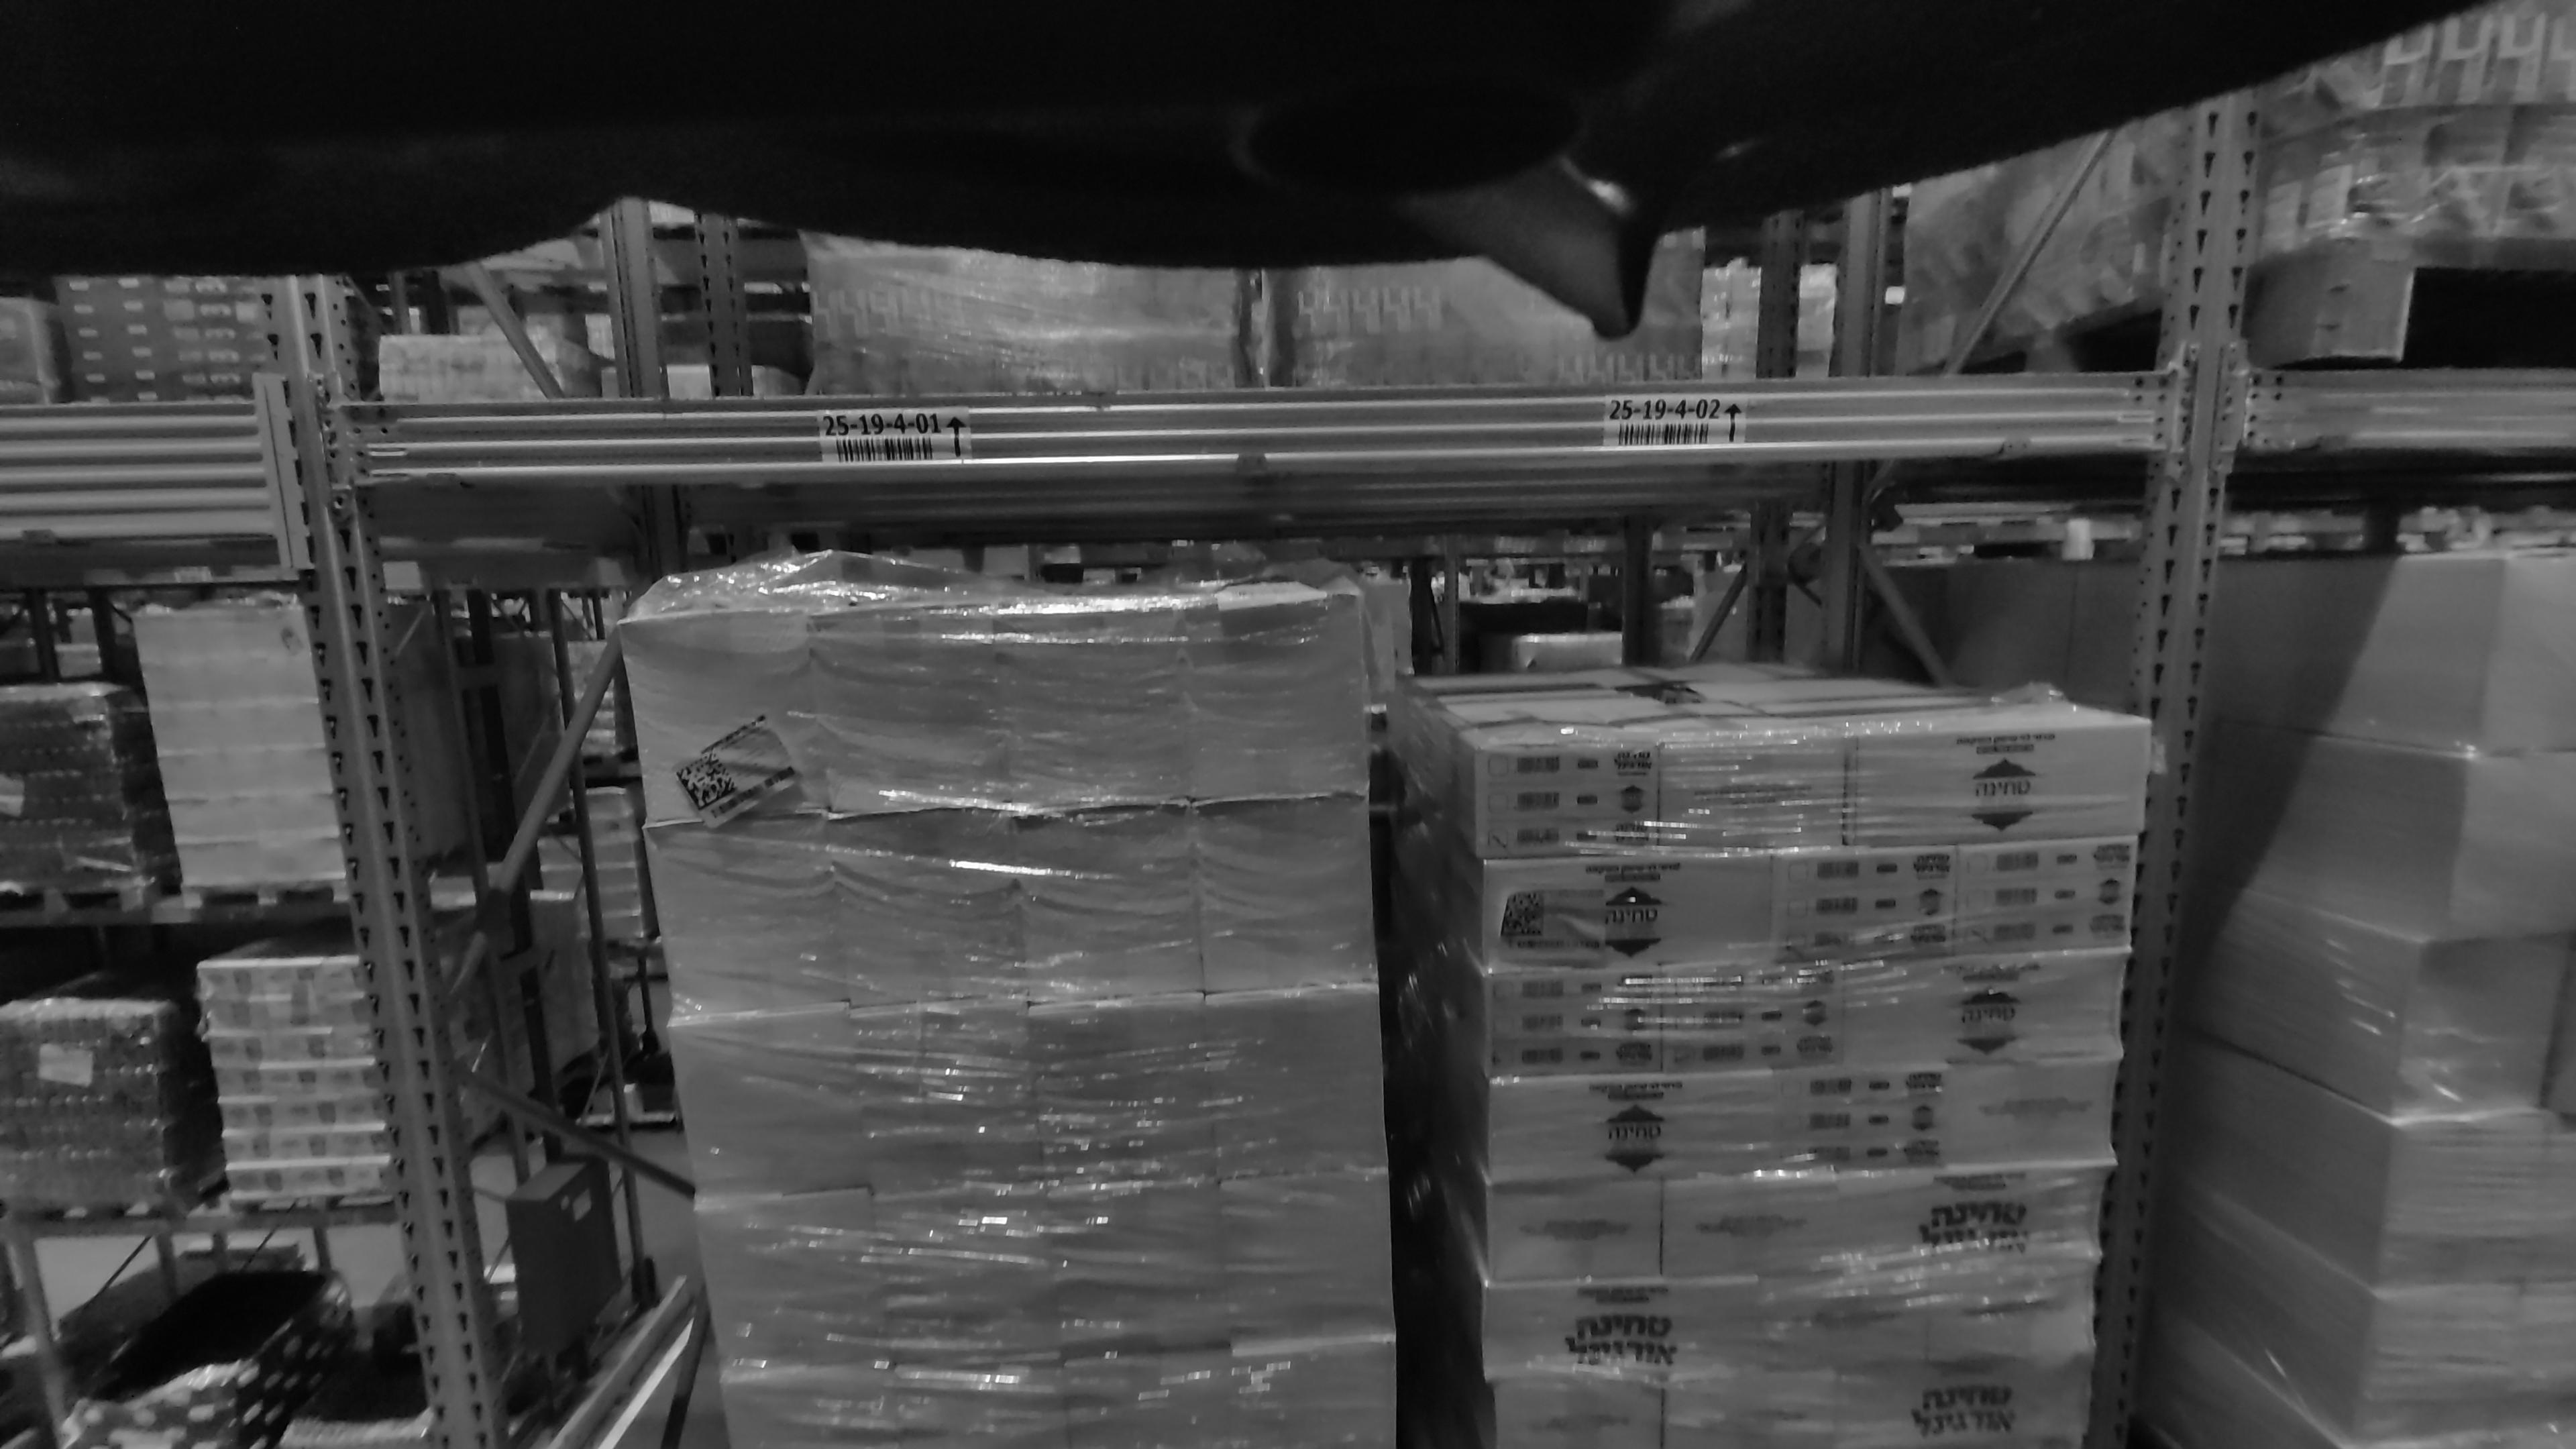empty-shelf: (349, 228, 1210, 396), (1290, 199, 2071, 376)
